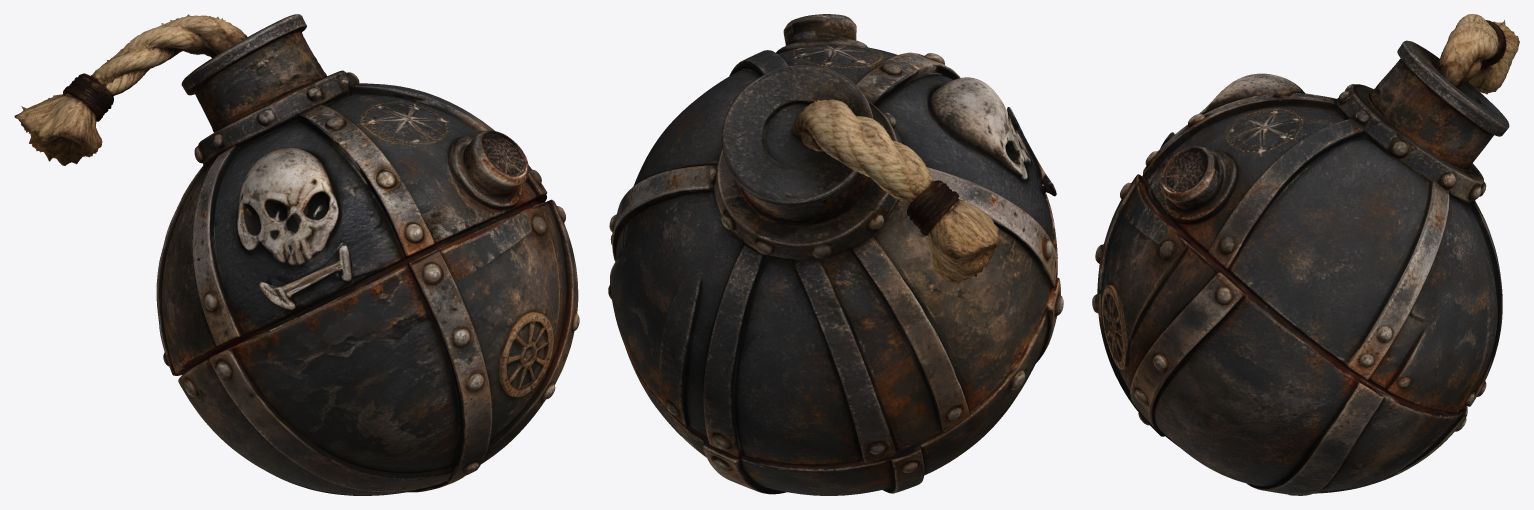
Rendered from artillery-projectile.glb.
3 views of the same model, side by side, from view 1: azimuth 30°, elevation 25°; view 2: azimuth 150°, elevation 25°; view 3: azimuth 270°, elevation 25° (orthographic). The views are drawn at different scales.
Visible parts, largest first — view 1: node_0; view 2: node_0; view 3: node_0.
Part boxes in pixels (<box>): node_0: <box>14,14,579,495</box>; node_0: <box>608,14,1063,495</box>; node_0: <box>1092,14,1519,495</box>.
Size of the model in its own units: 0.8316 by 0.8076 by 0.7506.
1 material, 1 textured.
